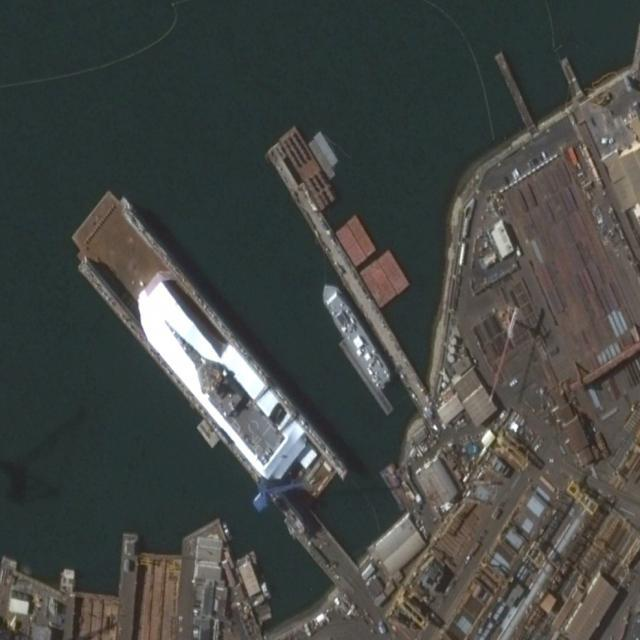Other Ship: (154, 307, 286, 465), (315, 276, 395, 397)
